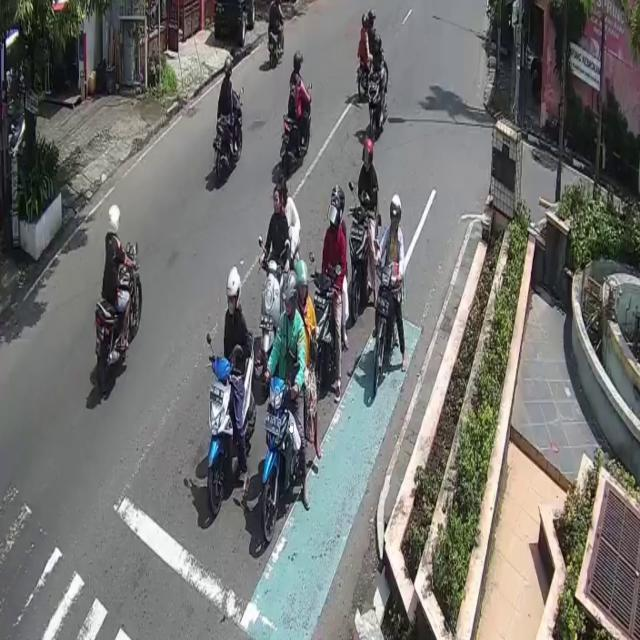bus: (205, 326, 259, 516), (260, 349, 308, 546), (95, 243, 142, 397), (264, 252, 303, 347), (351, 204, 382, 320), (308, 272, 336, 394), (375, 262, 400, 386), (213, 91, 242, 189), (281, 90, 312, 178), (358, 34, 388, 106), (368, 70, 383, 143), (267, 17, 286, 66)
